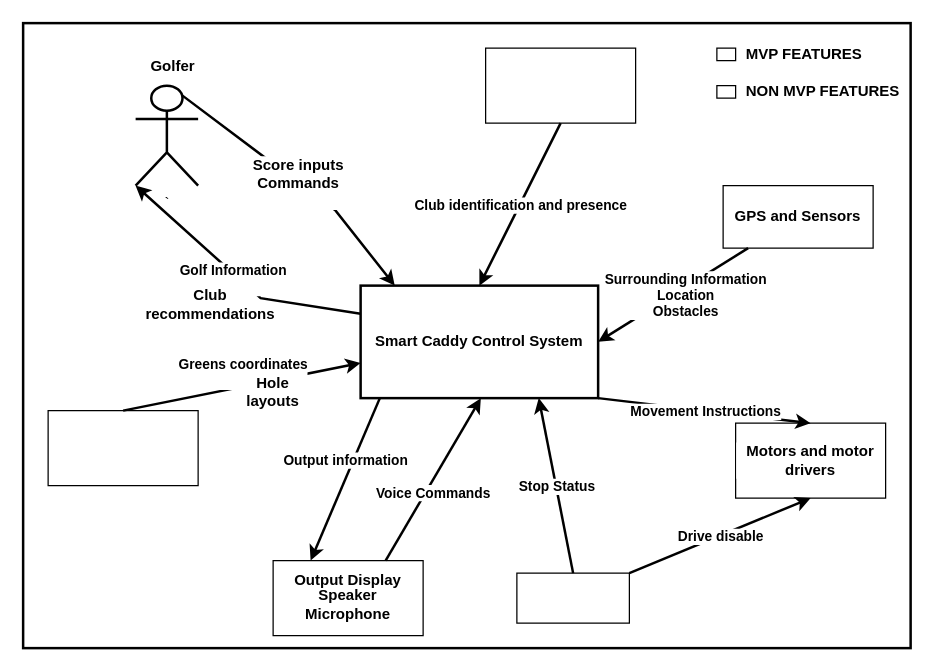
Some shapes in this 944 by 670 pixel diagram are drawn without their labels. Each missing label, with the box of its shape:
Course Map Data: (47, 409, 198, 486)
Emergency stop condition: (516, 572, 629, 623)
Golf bag and clubs: (484, 47, 636, 123)
